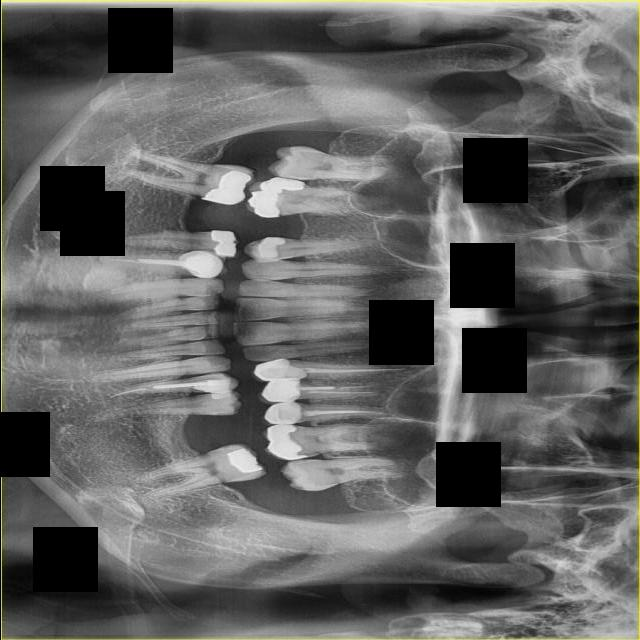71: (135, 243, 213, 275), (151, 379, 226, 389), (299, 386, 335, 390)
74: (303, 407, 383, 417), (300, 367, 406, 373), (107, 386, 148, 398), (306, 391, 373, 394), (336, 384, 374, 389), (114, 259, 138, 263)
NucleOSS Implant: (240, 159, 306, 227), (200, 162, 256, 220), (263, 422, 308, 462), (222, 442, 265, 481), (210, 230, 237, 257)
Sterngold Implant: (216, 444, 233, 452), (196, 455, 210, 459), (298, 459, 309, 464)
Straumann Implant: (192, 376, 237, 398), (254, 237, 285, 260), (210, 391, 230, 400)
Zimmer Implant: (177, 247, 227, 281), (249, 358, 307, 383), (257, 377, 302, 406), (262, 401, 302, 425)
